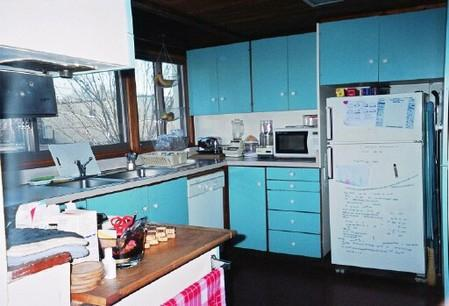Electrodomestico: (327, 99, 426, 274), (188, 173, 224, 228)
Lavaplatos: (99, 151, 176, 186), (60, 157, 124, 195)
